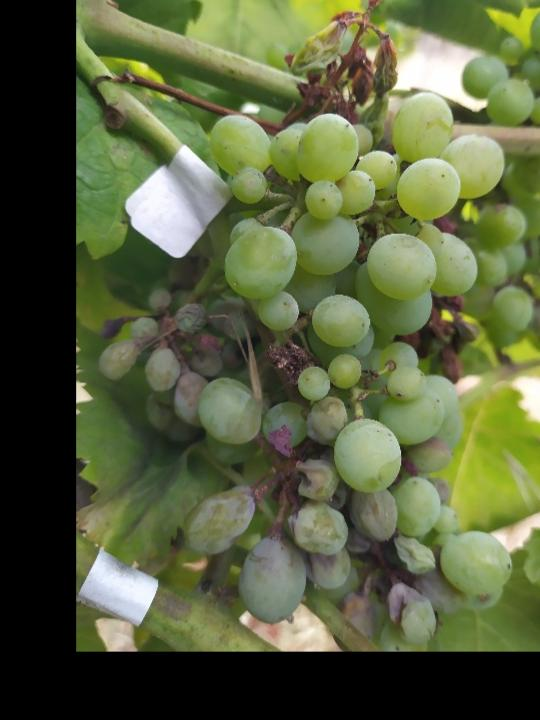grape: (97, 91, 520, 646)
